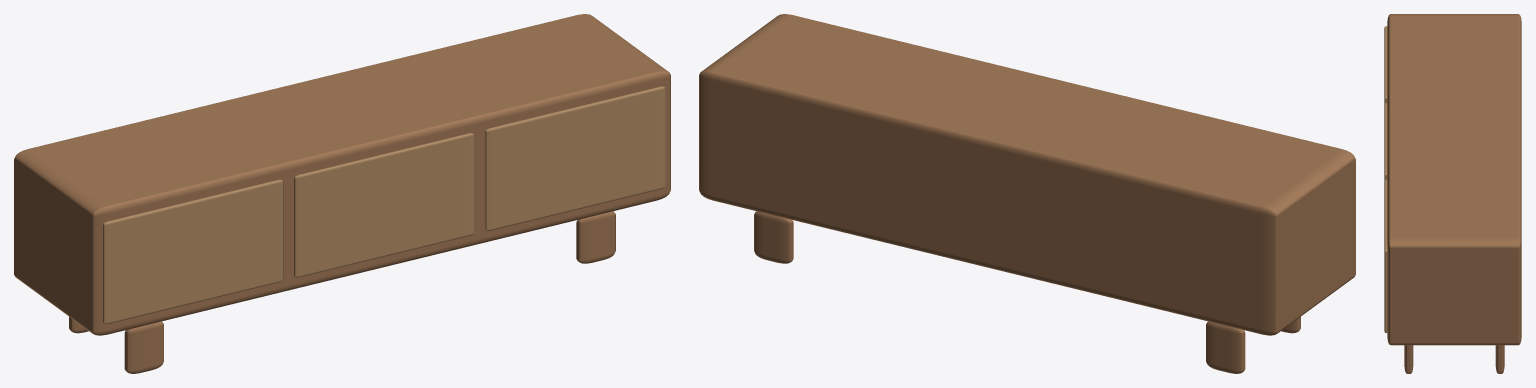
Rendered from tv-console.glb.
3 renders of one model, left to right at view 1: azimuth 30°, elevation 25°; view 2: azimuth 150°, elevation 25°; view 3: azimuth 270°, elevation 25°, orthographic. The views are drawn at different scales.
Bounding box in the file's own units: 1.8 × 0.55 × 0.45.
